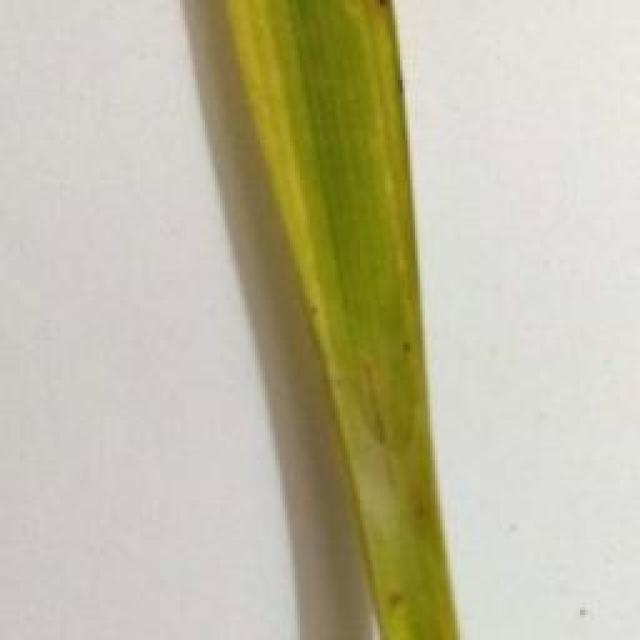Bacterial_Blight: (210, 0, 368, 528), (337, 0, 445, 408)
Brown_Spot: (390, 325, 419, 365), (362, 0, 397, 19), (384, 594, 409, 614)
